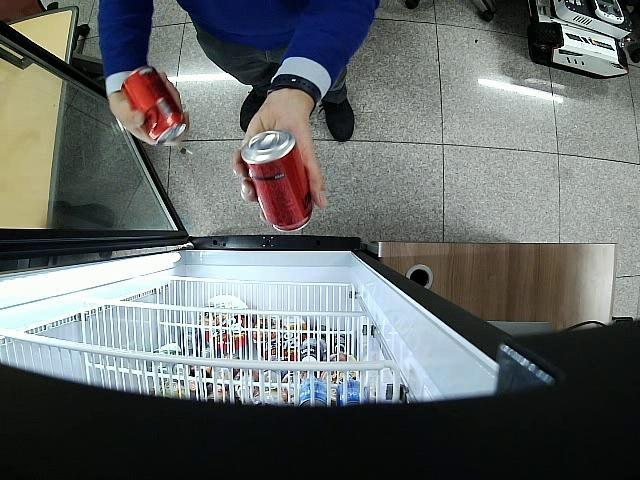11_cocaColaZero: (241, 130, 312, 232), (124, 65, 186, 147)
